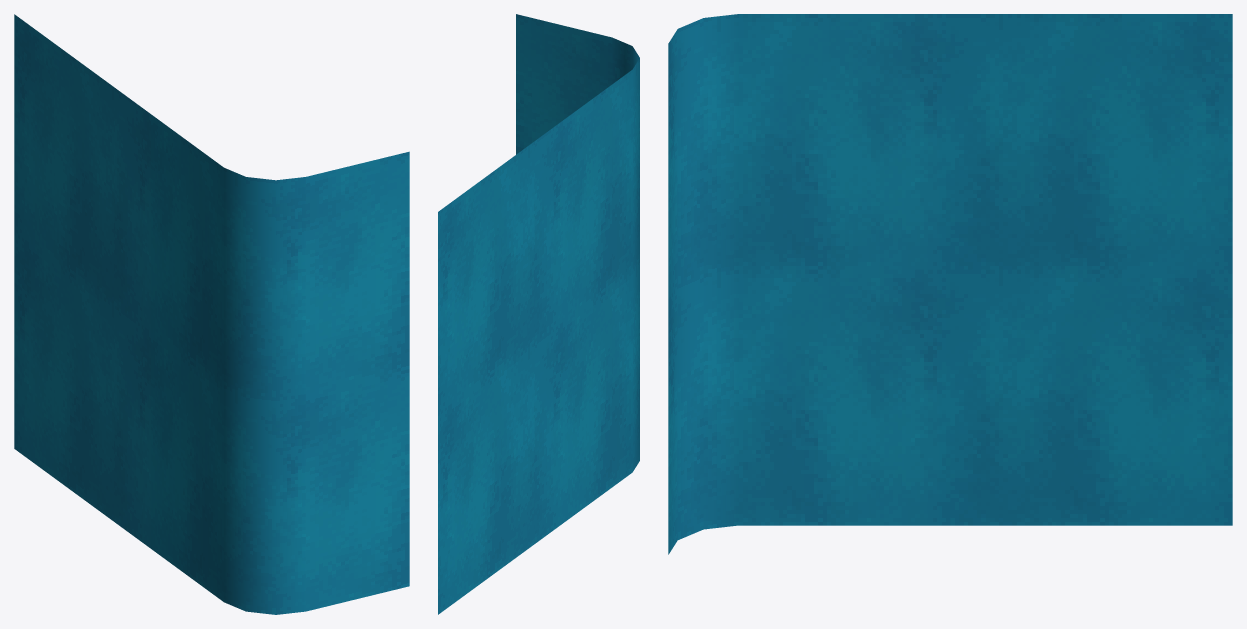
File: Water_Waterfall_Base_Right_1x1.glb
The picture shows the model from 3 angles, left to right: view 1: azimuth 30°, elevation 25°; view 2: azimuth 150°, elevation 25°; view 3: azimuth 270°, elevation 25°; orthographic projection. The views are drawn at different scales.
Parts seen in each view (by area): view 1: Water_Waterfall_Base_Right_1x1; view 2: Water_Waterfall_Base_Right_1x1; view 3: Water_Waterfall_Base_Right_1x1.
Part boxes in pixels (x1,y1,x2,y2): Water_Waterfall_Base_Right_1x1: (14,14,409,614); Water_Waterfall_Base_Right_1x1: (438,14,639,614); Water_Waterfall_Base_Right_1x1: (668,14,1232,554).
Bounding box in the file's own units: 75 × 200 × 200.
1 material, 1 textured.
